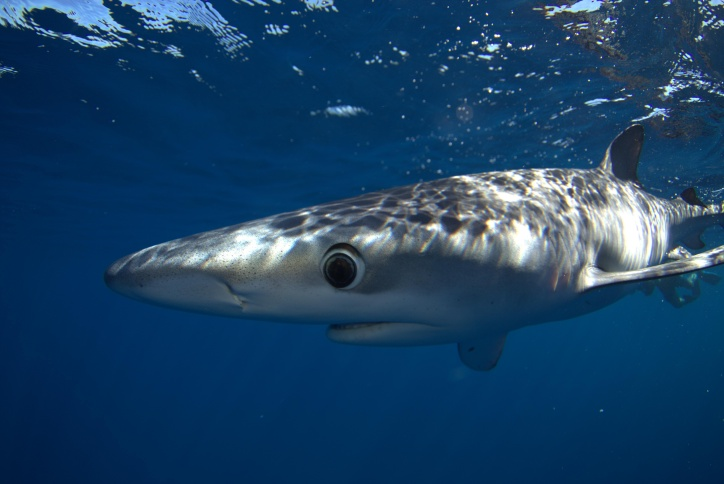Azul: (95, 101, 724, 396)
